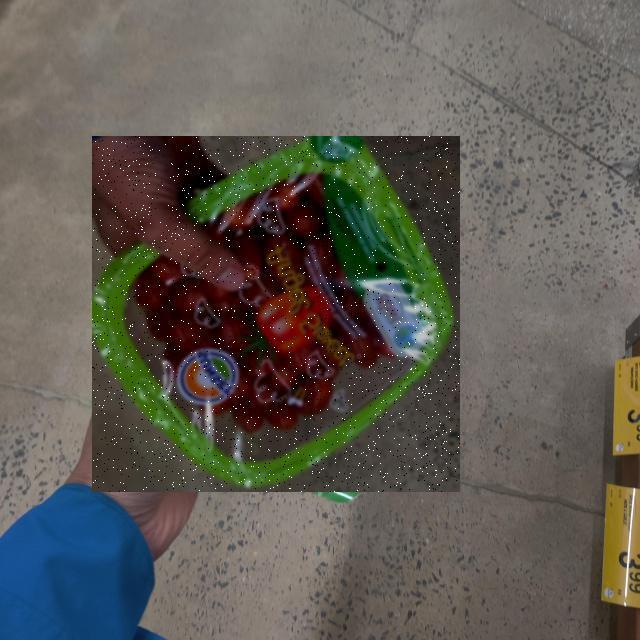Tomatoes: (92, 136, 460, 492)
